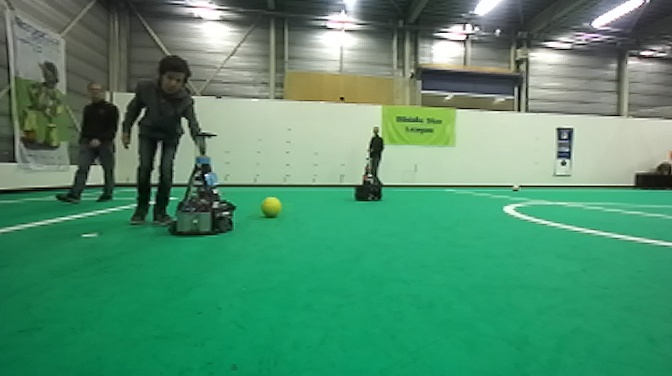ball: (260, 194, 283, 221), (509, 181, 523, 194)
human: (119, 53, 209, 237), (52, 81, 121, 205), (363, 125, 391, 191)
robot: (169, 131, 237, 237), (353, 154, 385, 204)
